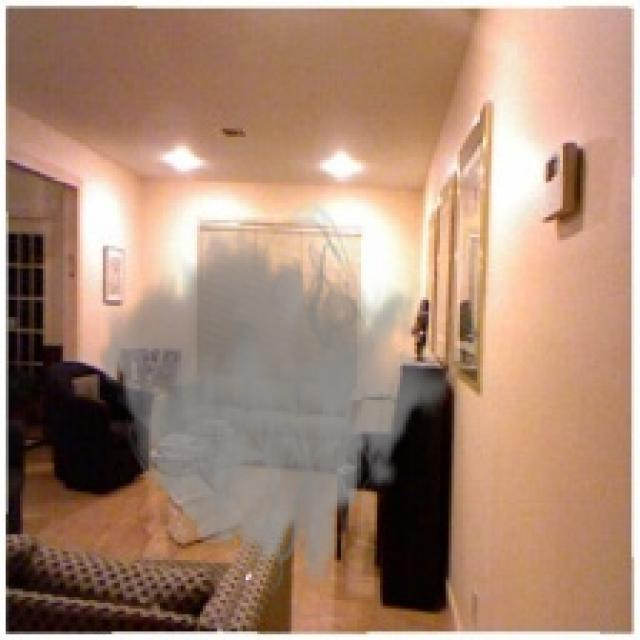Smoke: (97, 197, 452, 600)
